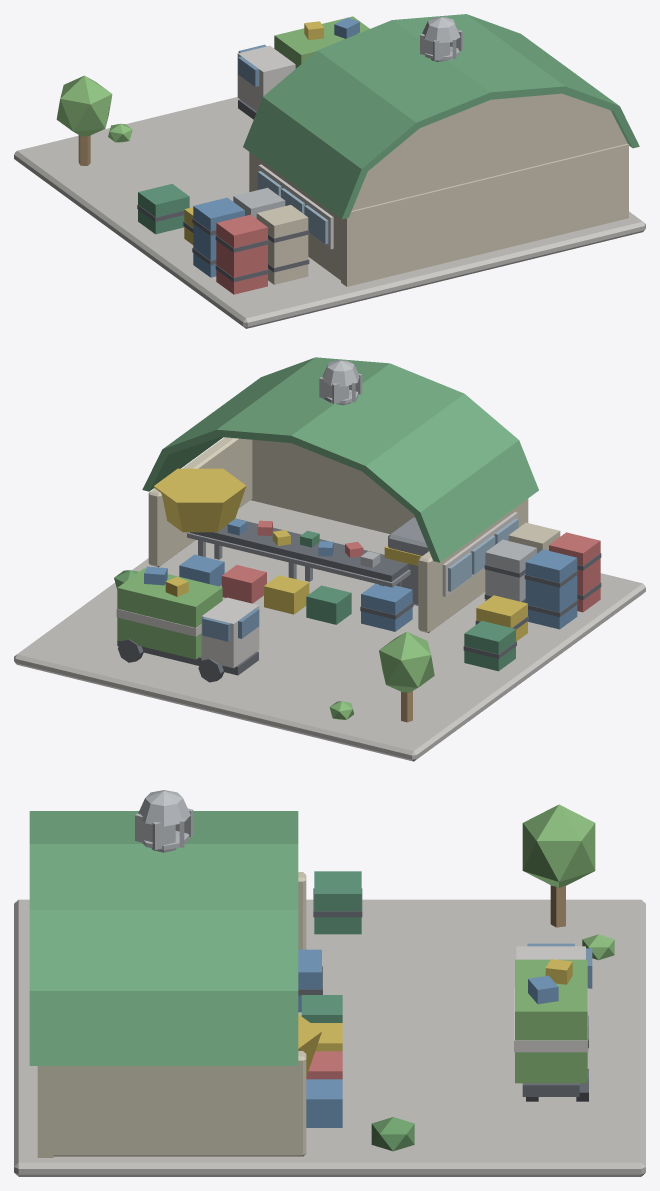
Rendered from residuos__cooperativa_reciclagem.glb.
The picture shows the model from 3 angles, top to bottom: view 1: azimuth 30°, elevation 25°; view 2: azimuth 150°, elevation 25°; view 3: azimuth 270°, elevation 25°; orthographic projection. The views are drawn at different scales.
Visible parts, largest first — view 1: residuos__cooperativa_reciclagem; view 2: residuos__cooperativa_reciclagem; view 3: residuos__cooperativa_reciclagem.
Part boxes in pixels (x1=…): residuos__cooperativa_reciclagem: x1=14, y1=14, x2=645, y2=328; residuos__cooperativa_reciclagem: x1=14, y1=357, x2=645, y2=761; residuos__cooperativa_reciclagem: x1=14, y1=790, x2=645, y2=1176.
Bounding box in the file's own units: 4 × 2.01 × 4.
